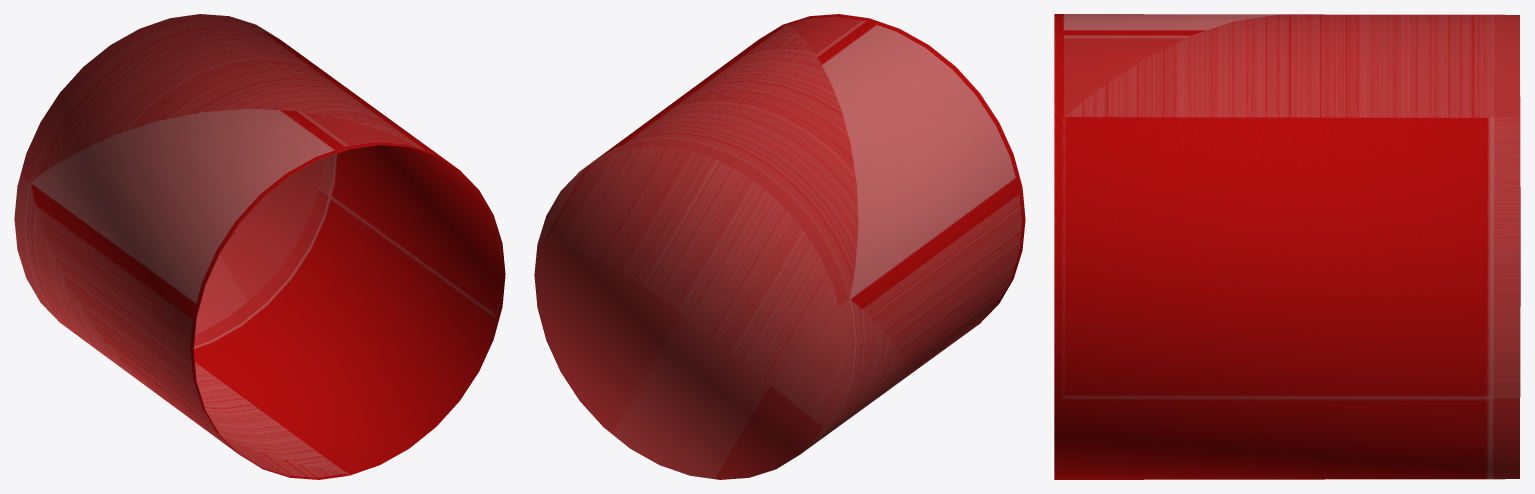
Rendered from Boton.fbx.
3 views of the same model, side by side, from view 1: azimuth 30°, elevation 25°; view 2: azimuth 150°, elevation 25°; view 3: azimuth 270°, elevation 25° (orthographic). The views are drawn at different scales.
Parts seen in each view (by area): view 1: boton_low; view 2: boton_low; view 3: boton_low.
Boxes of the visible parts, x1,y1,x2,y2 form: boton_low: [14, 14, 505, 479]; boton_low: [534, 14, 1025, 479]; boton_low: [1054, 14, 1520, 479].
Size of the model in its own units: 46.41 by 46.41 by 46.41.
